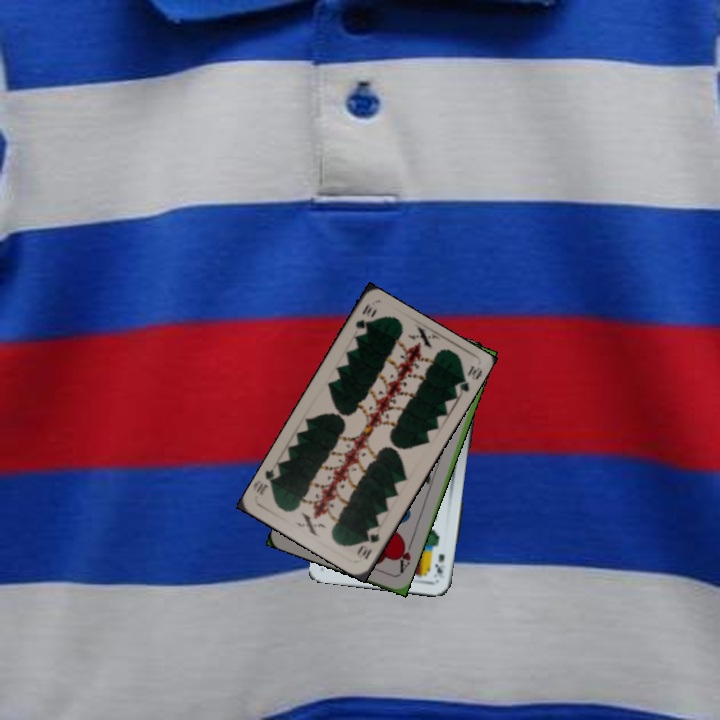EK: (432, 550, 448, 578)
G10: (353, 529, 382, 562), (351, 300, 379, 332)
HA: (393, 536, 415, 577)
